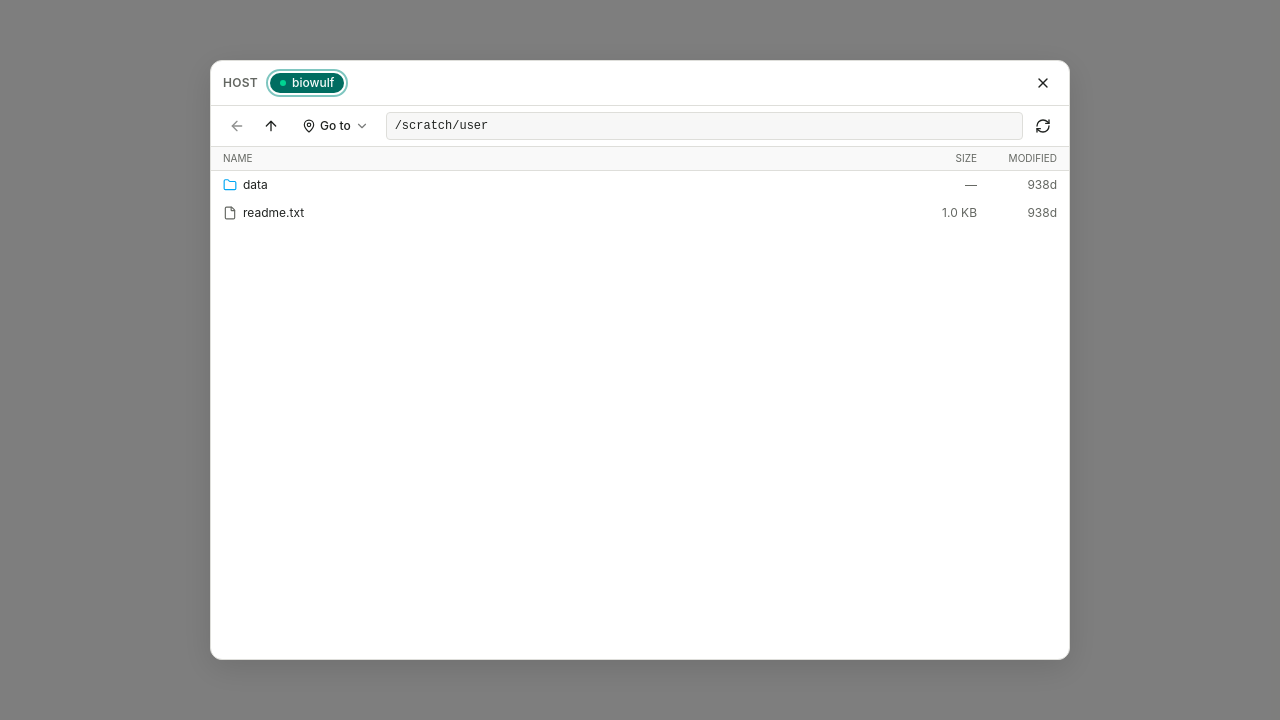
Test: FileBrowserModal › shows detail panel when a file is selected
The width and height of the screenshot is (1280, 720).
What coordinates should you click on to do the following:
click the option "readme.txt 1.0 KB 938d"
I would click on:
 (274, 212)
Its box is [211, 199, 1069, 227].
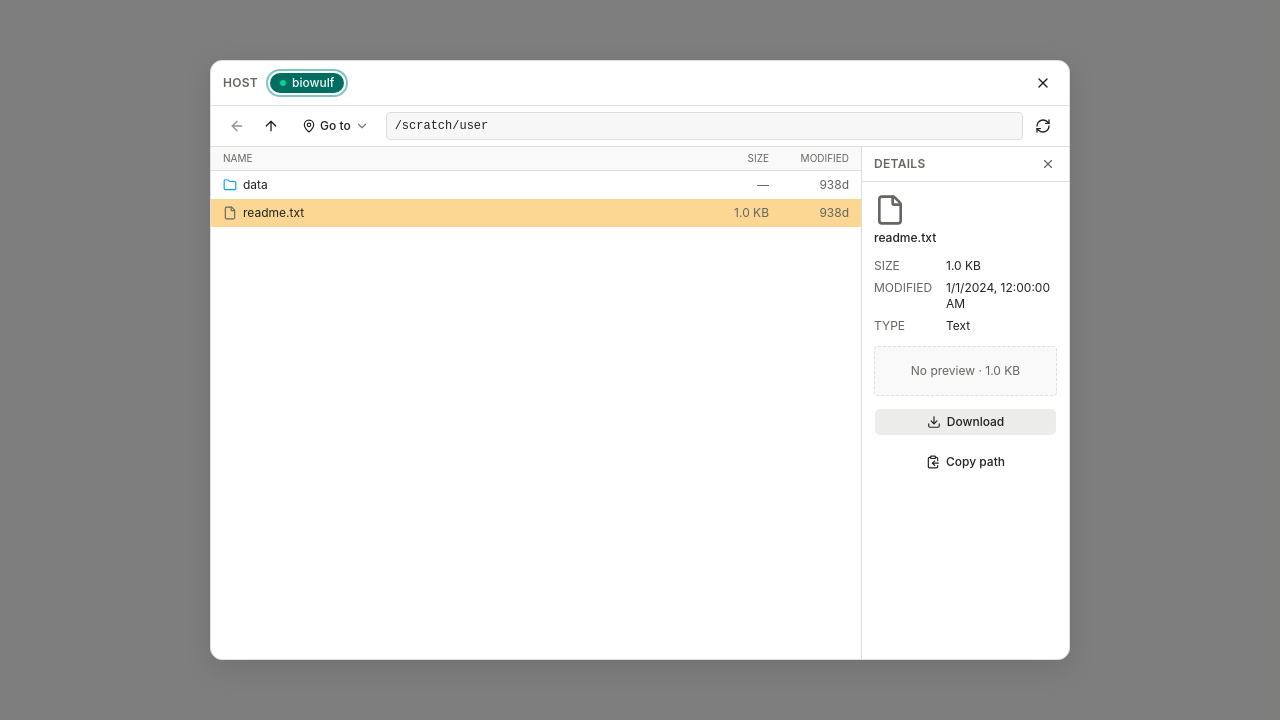
Check: the text "No preview" is shown, box [911, 363, 985, 378]
Check: the text "Copy path" is shown, box [874, 448, 1057, 476]
Check: the text "Download" is shown, box [874, 408, 1057, 436]
